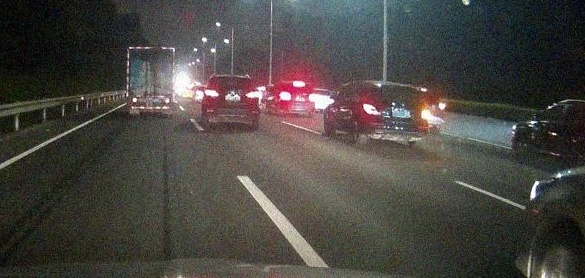L_light: (362, 103, 381, 116), (280, 91, 292, 101), (205, 89, 220, 97), (132, 97, 137, 102)
R_light: (420, 108, 430, 120), (246, 91, 259, 98), (309, 94, 315, 102), (165, 98, 170, 103)
T_light: (393, 86, 408, 90), (293, 83, 305, 86), (227, 77, 237, 79), (145, 49, 154, 51)
night-brake: (278, 81, 315, 117)
night-no: (126, 46, 176, 118), (203, 74, 259, 129)
night-right: (360, 82, 431, 145)
